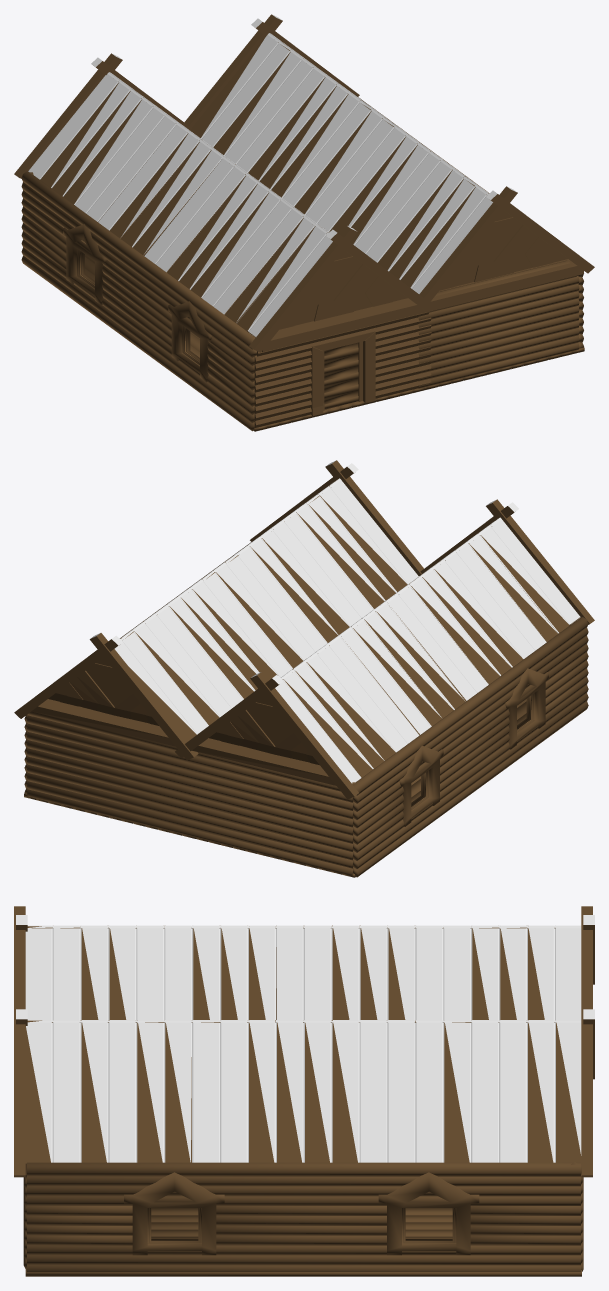
File: snow_house_5.fbx
The picture shows the model from 3 angles, top to bottom: view 1: azimuth 30°, elevation 25°; view 2: azimuth 150°, elevation 25°; view 3: azimuth 270°, elevation 25°; orthographic projection. The views are drawn at different scales.
Parts seen in each view (by area): view 1: Roof_01_b.001, Roof_01_b, Wall_Wide_01_b, Wall_Narrow_02_b, Wall_Narrow_01_b, Door_03, Floor_01_c.002, Floor_01_c.001; view 2: Roof_01_b.001, Roof_01_b, Wall_Wide_02_b.002, Wall_Wide_01_b, Floor_01_c.002; view 3: Roof_01_b, Wall_Wide_01_b.001, Roof_01_b.001, Floor_01_c.001.
Boxes of the visible parts, x1,y1,x2,y2 form: Roof_01_b.001: (14, 53, 434, 352); Roof_01_b: (184, 14, 594, 313); Wall_Wide_01_b: (21, 171, 256, 431); Wall_Narrow_02_b: (418, 260, 579, 388); Wall_Narrow_01_b: (254, 312, 431, 427); Door_03: (324, 342, 358, 409); Floor_01_c.002: (85, 254, 424, 431); Floor_01_c.001: (425, 347, 584, 389); Roof_01_b.001: (175, 499, 594, 799); Roof_01_b: (14, 460, 423, 760); Wall_Wide_02_b.002: (27, 711, 355, 875); Wall_Wide_01_b: (350, 617, 588, 877); Floor_01_c.002: (188, 699, 526, 877); Roof_01_b: (14, 1000, 594, 1177); Wall_Wide_01_b.001: (27, 1162, 580, 1271); Roof_01_b.001: (14, 906, 594, 1019); Floor_01_c.001: (25, 1208, 581, 1276).
Size of the model in its own units: 828 by 426 by 1013.
